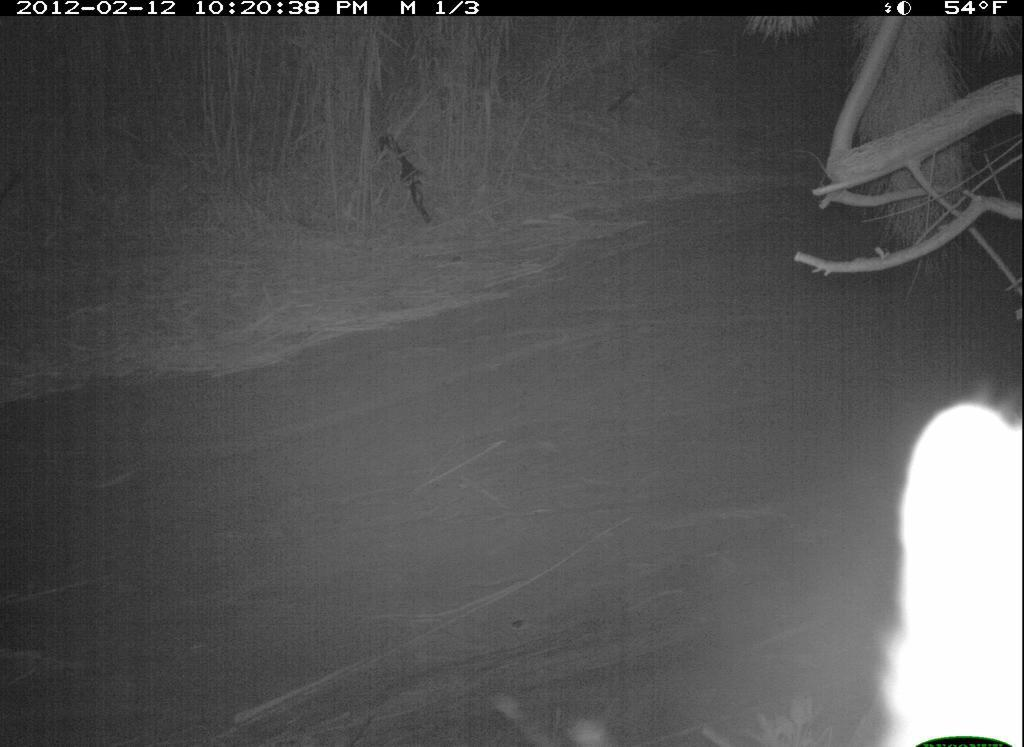raccoon: (859, 360, 1022, 747)
